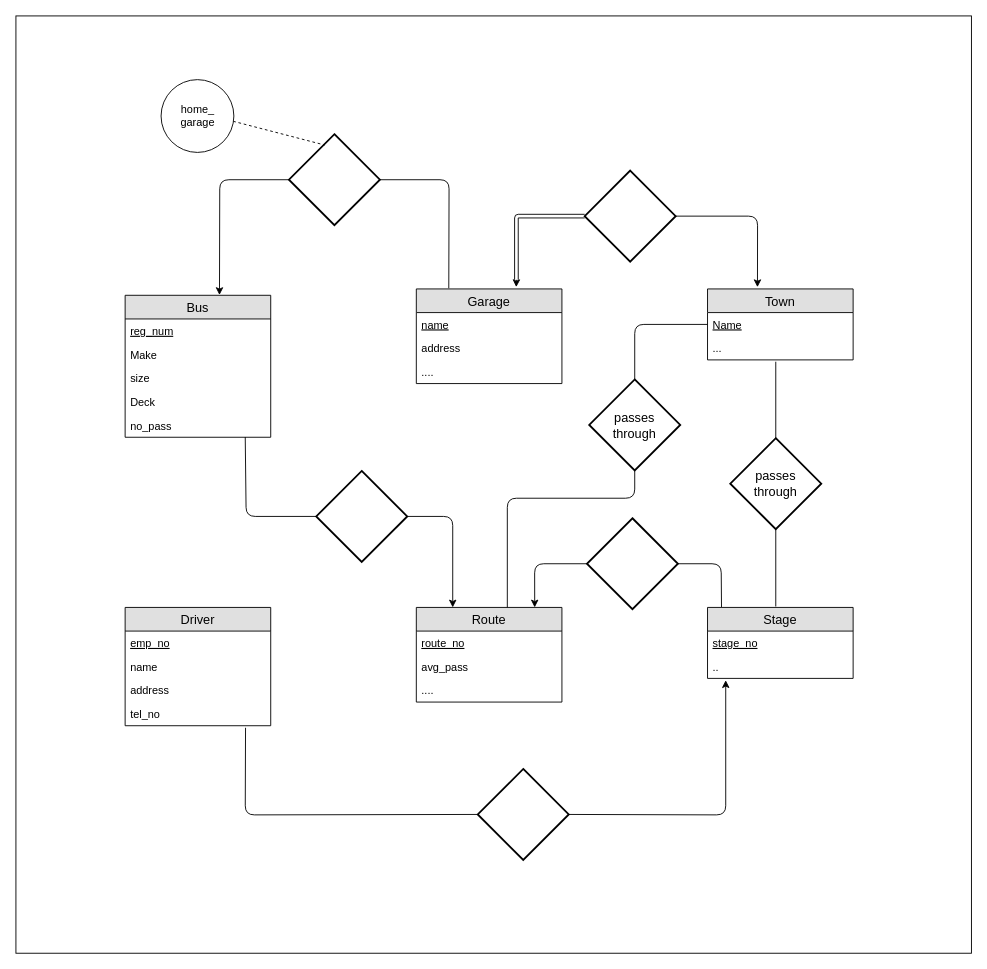
This 987x969 diagram has some shape labels left out. The shapes that lost their labels are listed below. From the top down, each one's centre as x and y in pixels, then its label:
At point 334,179: "garaged".
At point 629,215: "situated".
At point 361,516: "serviced by".
At point 632,563: "comprises".
At point 522,814: "allocated".
